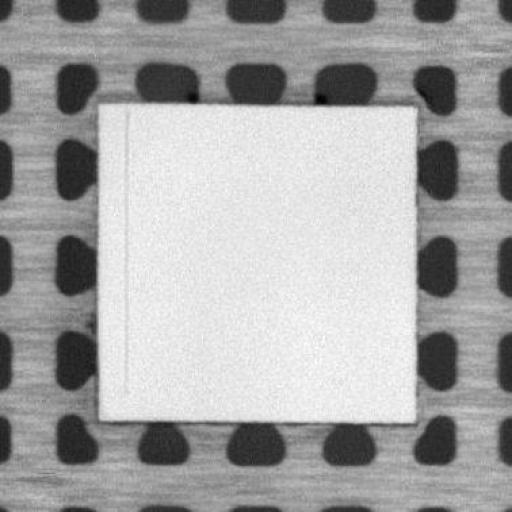DIE_CRACK: (115, 104, 130, 397)
